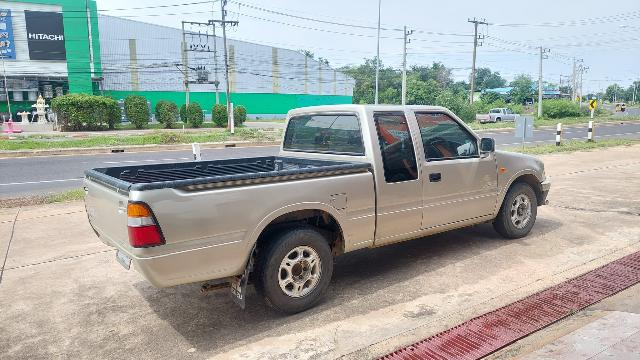pickup-truck: (75, 92, 564, 330)
